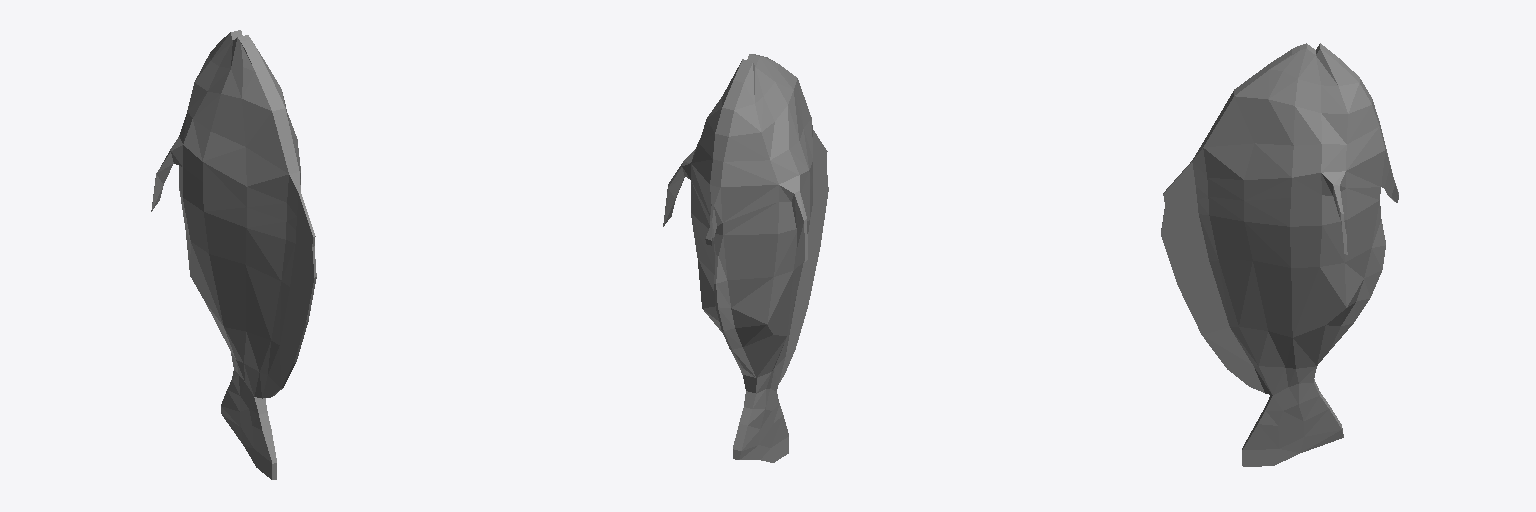
Rendered from Dory.obj.
3 views of the same model, side by side, from view 1: azimuth 30°, elevation 25°; view 2: azimuth 150°, elevation 25°; view 3: azimuth 270°, elevation 25° (orthographic).
Visible parts, largest first — view 1: TropicalFish02; view 2: TropicalFish02; view 3: TropicalFish02.
Boxes of the visible parts, box(x1,y1,x2,y2) form: TropicalFish02: box(151, 30, 316, 479); TropicalFish02: box(663, 54, 828, 462); TropicalFish02: box(1161, 43, 1398, 466).
Size of the model in its own units: 1.9 by 5.27 by 2.71.